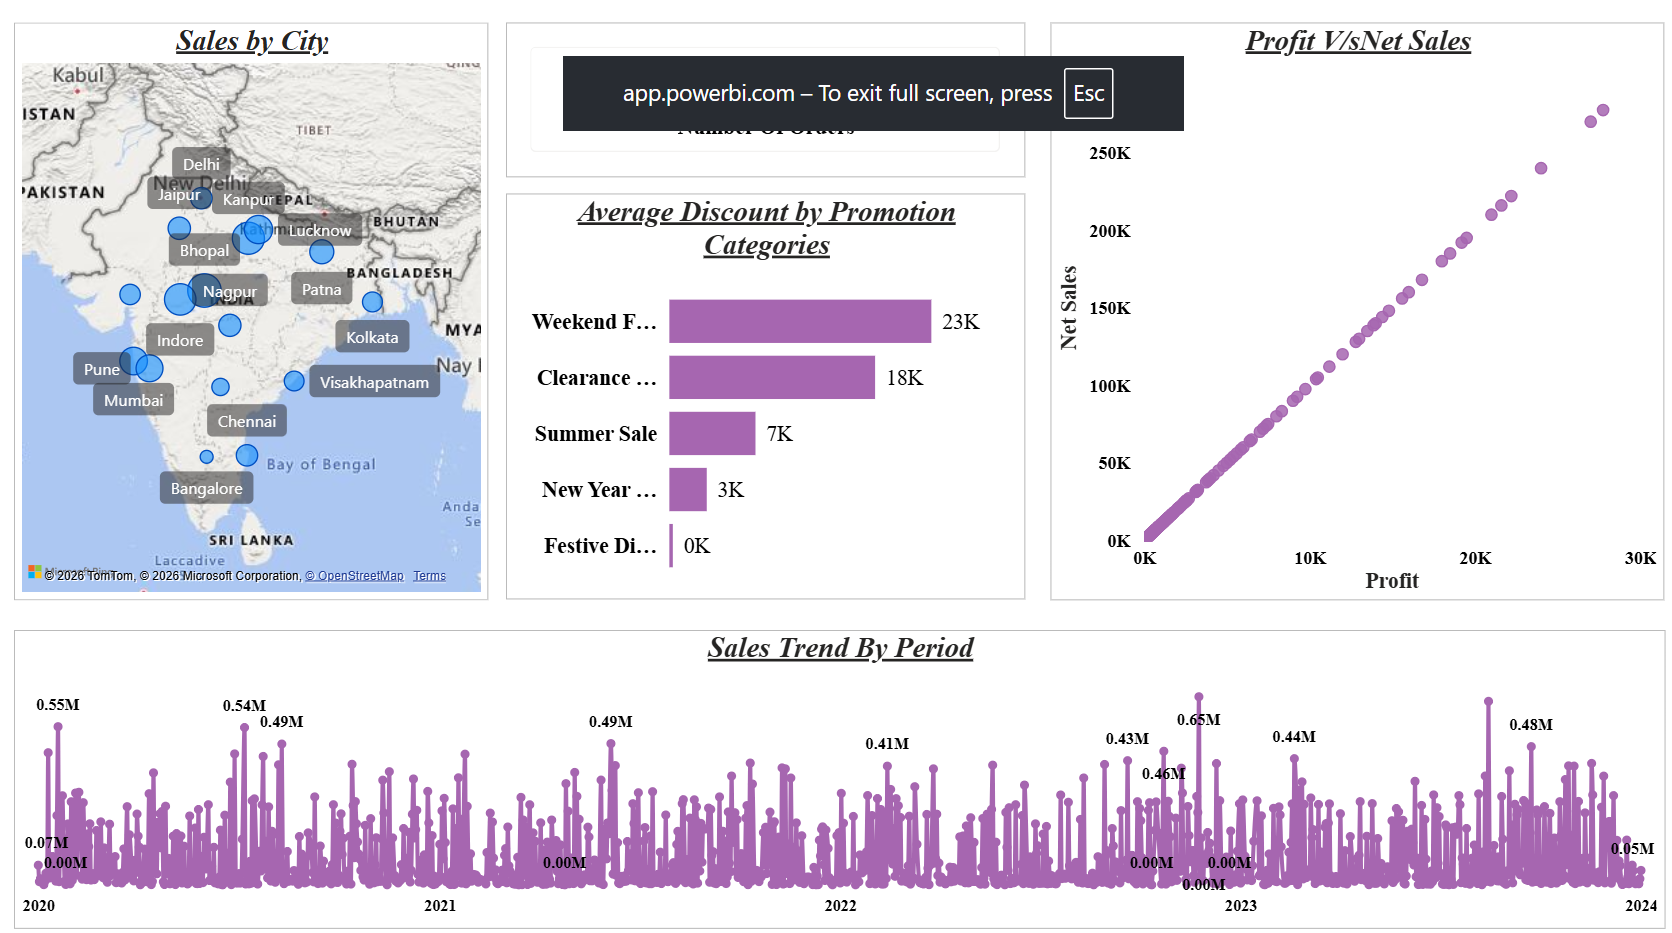

What the dashboard file says about the page in this screenshot:
{"tool":"powerbi","page":{"name":"Overview","canvas":[1280,720],"ordinal":0},"visuals":[{"type":"lineChart","title":"Sales Trend By Period","fields":{"Category":["Fact Table.Date (dd/mm/yyyy).Variation.Date Hierarchy.Year"],"Y":["Sum(Fact Table.Net Sales  )"]},"box":[22.3,475.6,1223.2,221.1],"z":0},{"type":"scatterChart","title":"Profit V/sNet Sales  ","fields":{"X":["Fact Table.Profit"],"Y":["Fact Table.Net Sales  "]},"box":[790.5,25.4,454.9,427.9],"z":1000},{"type":"barChart","title":"Average Discount by Promotion Categories","fields":{"Category":["Dim Promotion.Promotion Name"],"Y":["Avg(Fact Table.Discount)"]},"box":[386.5,152.7,384.9,300.6],"z":2000},{"type":"map","title":"Sales by City","fields":{"Category":["Dim Customers.City"],"Size":["Sum(Fact Table.Net Sales  )"]},"box":[22.3,25.4,351.5,427.9],"z":3000},{"type":"cardVisual","fields":{"Data":["Count(Fact Table.OrderID)"]},"box":[386.5,25.4,384.9,114.5],"z":4000}]}

Visuals, with their boxes on the page's 1280x720 design canvas (x1, y1, x2, y2). These are canvas units, not pixel positions in the 1672x933 screenshot, which may show the page scaled, cropped or inside an application window:
"Sales Trend By Period" lineChart: {"x1": 22, "y1": 476, "x2": 1246, "y2": 697}
"Profit V/sNet Sales  " scatterChart: {"x1": 790, "y1": 25, "x2": 1245, "y2": 453}
"Average Discount by Promotion Categories" barChart: {"x1": 386, "y1": 153, "x2": 771, "y2": 453}
"Sales by City" map: {"x1": 22, "y1": 25, "x2": 374, "y2": 453}
cardVisual - Count(Fact Table.OrderID): {"x1": 386, "y1": 25, "x2": 771, "y2": 140}
